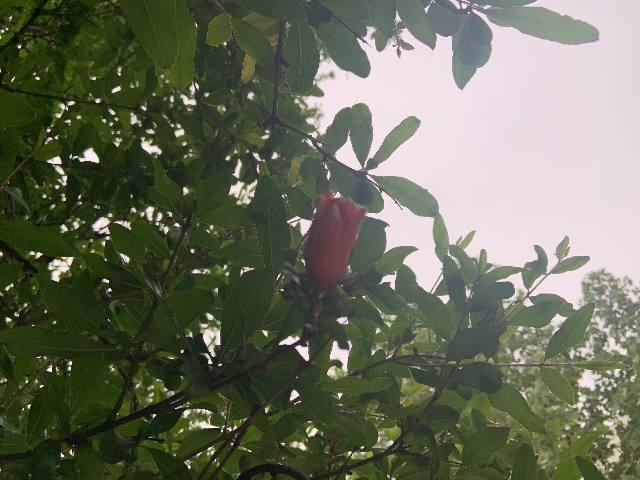flower: (304, 188, 365, 290)
